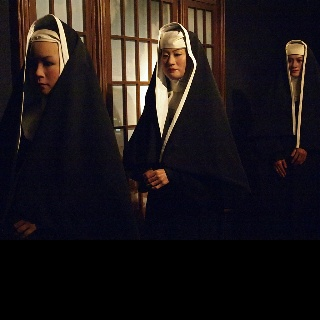without_mask: (29, 39, 58, 94), (161, 47, 185, 80), (286, 52, 304, 76)
